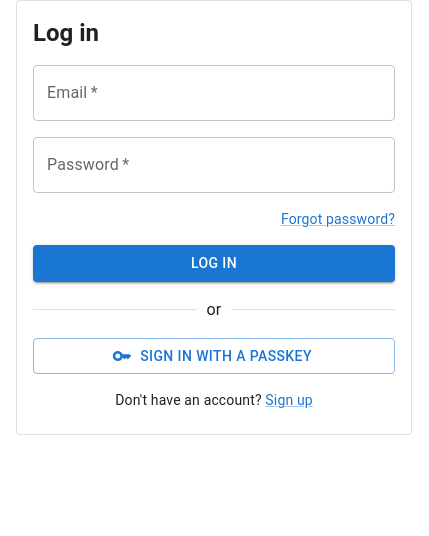
Test case: LoginPage › surfaces a passkey failure without crashing
Click the button "Sign in with a passkey" at (214, 356), box x1=33 y1=338 x2=395 y2=374
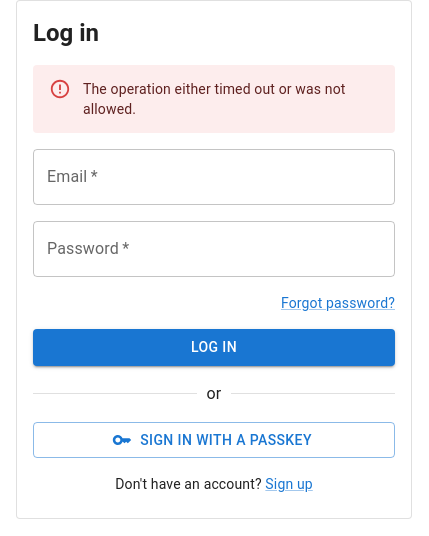
Expected: the text "The operation either timed out or was not allowed." is shown, x1=83 y1=71 x2=379 y2=127
